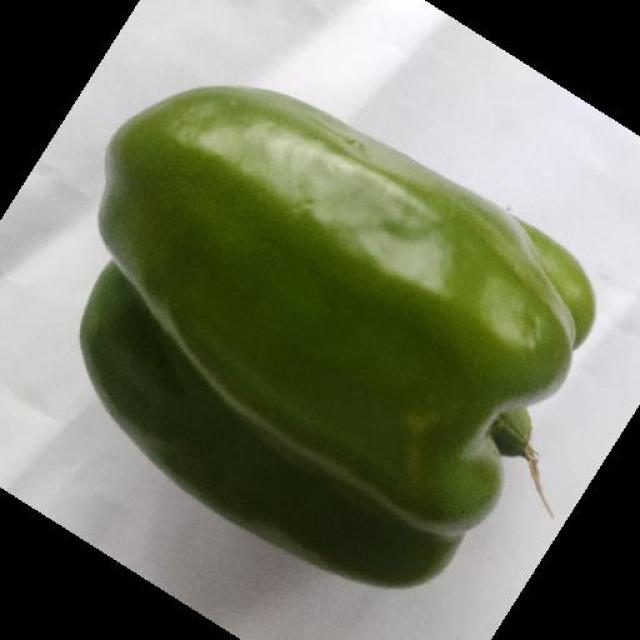Fresh_Capsicum: (98, 112, 584, 520)
